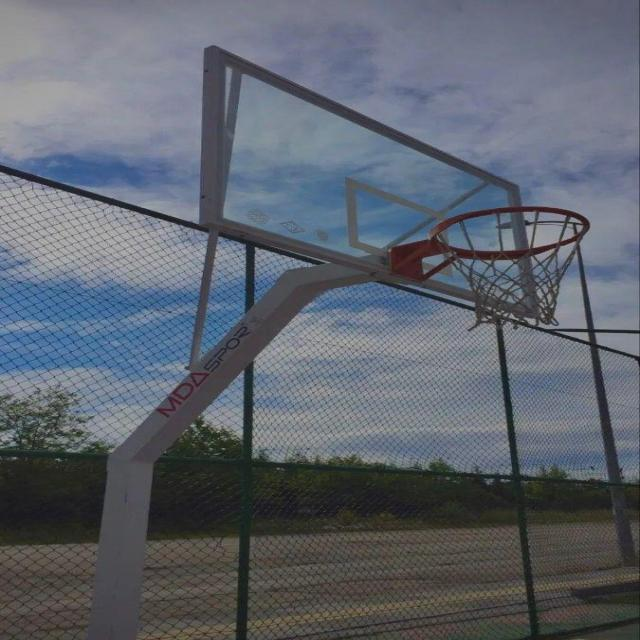hoop: (382, 208, 624, 344)
